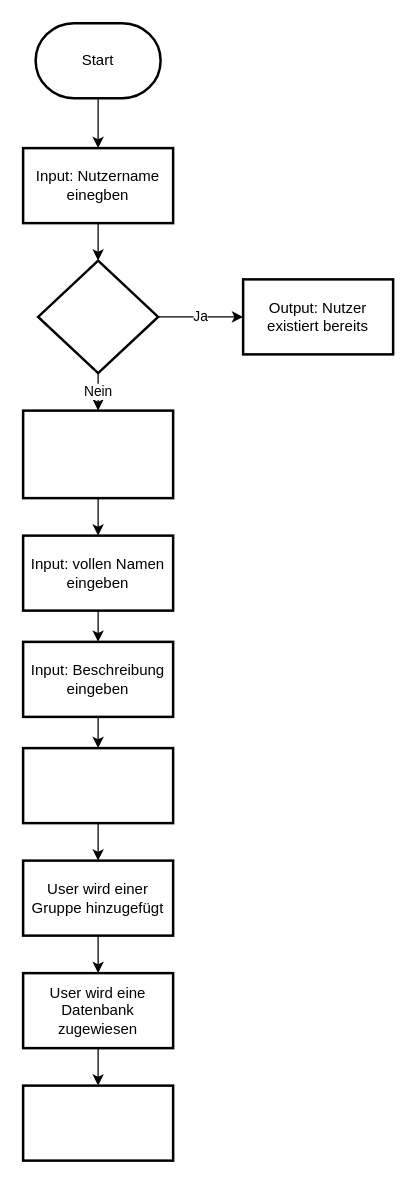
Some shapes in this 415 by 1183 pixel diagram are drawn without their labels. The centre of each missing label's shape, as x and y in pixels:
Dem User wird ein Webspace zugewiesen: the point at 97,1122
existiert Nutzer bereits: the point at 97,316
Input: Passwort eingeben: the point at 97,454
User wird Local mit eingegebenen Werten angelegt: the point at 97,785
